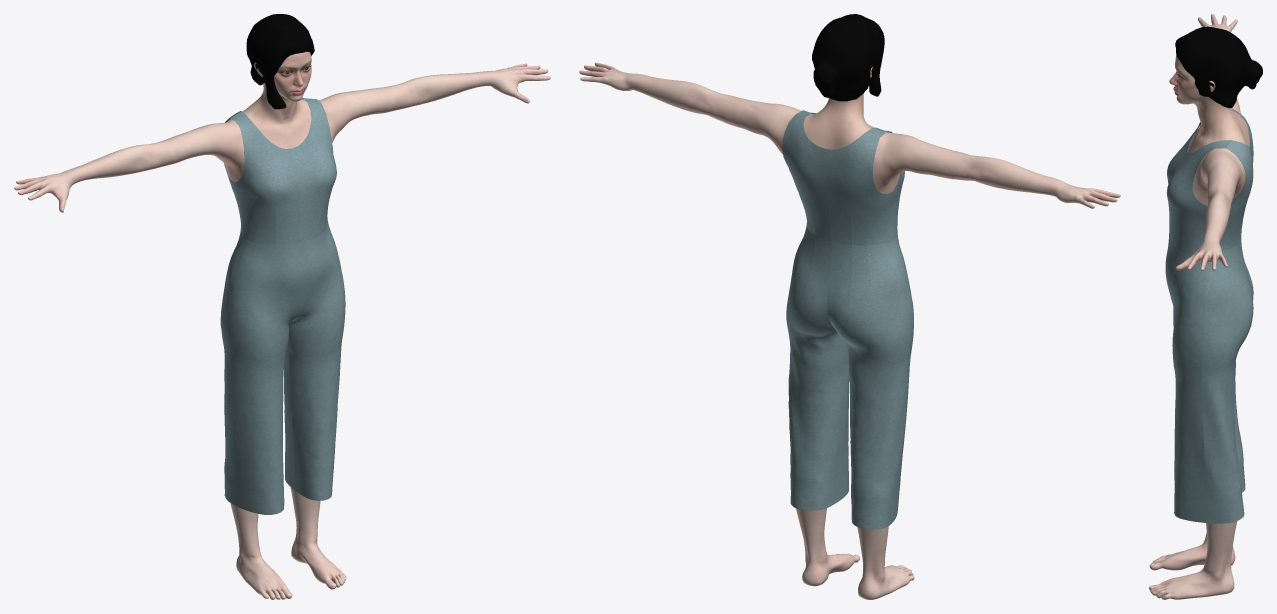
File: Dynamic_2.obj
The picture shows the model from 3 angles, left to right: view 1: azimuth 30°, elevation 25°; view 2: azimuth 150°, elevation 25°; view 3: azimuth 270°, elevation 25°; orthographic projection. The views are drawn at different scales.
Bounding box in the file's own units: 1742 × 1762 × 331.
